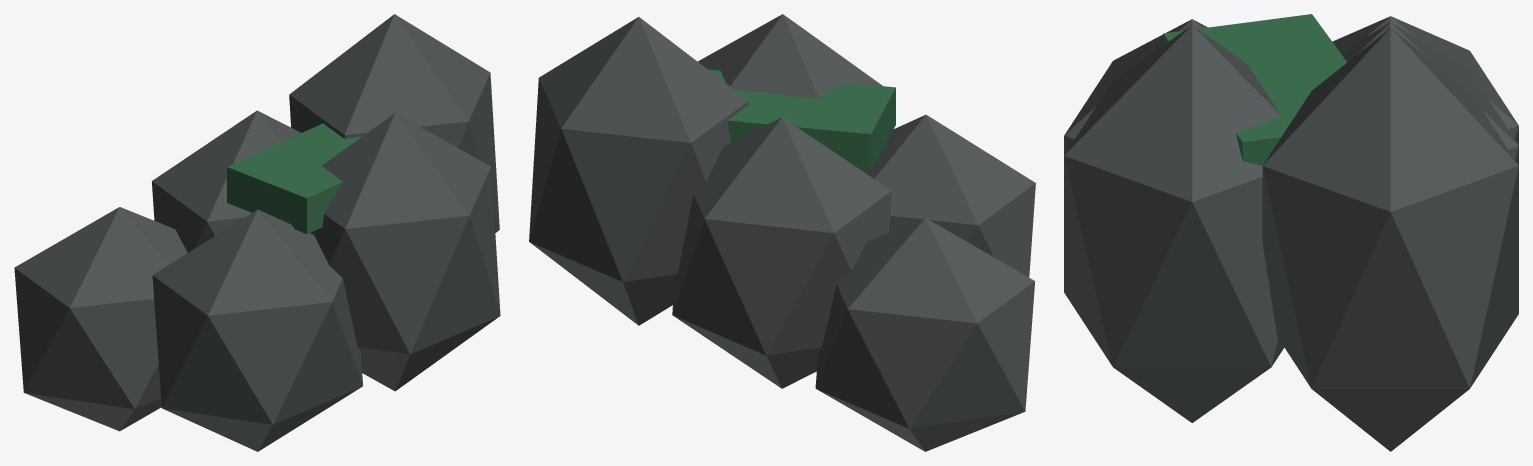
Rendered from df_rock_blocker_a.glb.
The picture shows the model from 3 angles, left to right: view 1: azimuth 30°, elevation 25°; view 2: azimuth 150°, elevation 25°; view 3: azimuth 270°, elevation 25°; orthographic projection. The views are drawn at different scales.
Parts seen in each view (by area): view 1: rock_1, rock_3, rock_0, rock_4, rock_2, moss_patch; view 2: rock_4, rock_2, rock_0, rock_1, moss_patch, rock_3; view 3: rock_4, rock_3, moss_patch, rock_0, rock_2, rock_1.
Part boxes in pixels (<box>): rock_1: <box>152,209,362,451</box>; rock_3: <box>310,113,500,391</box>; rock_0: <box>14,207,187,431</box>; rock_4: <box>289,14,499,232</box>; rock_2: <box>151,110,300,252</box>; moss_patch: <box>227,123,361,233</box>; rock_4: <box>529,17,748,325</box>; rock_2: <box>672,117,891,388</box>; rock_0: <box>815,218,1035,451</box>; rock_1: <box>862,114,1035,277</box>; moss_patch: <box>708,69,895,171</box>; rock_3: <box>698,14,882,98</box>; rock_4: <box>1262,28,1518,451</box>; rock_3: <box>1064,25,1284,422</box>; moss_patch: <box>1163,14,1347,165</box>; rock_0: <box>1332,16,1518,145</box>; rock_2: <box>1341,22,1518,165</box>; rock_1: <box>1064,19,1207,155</box>.
Size of the model in its own units: 1.09 by 0.78 by 0.6415.
